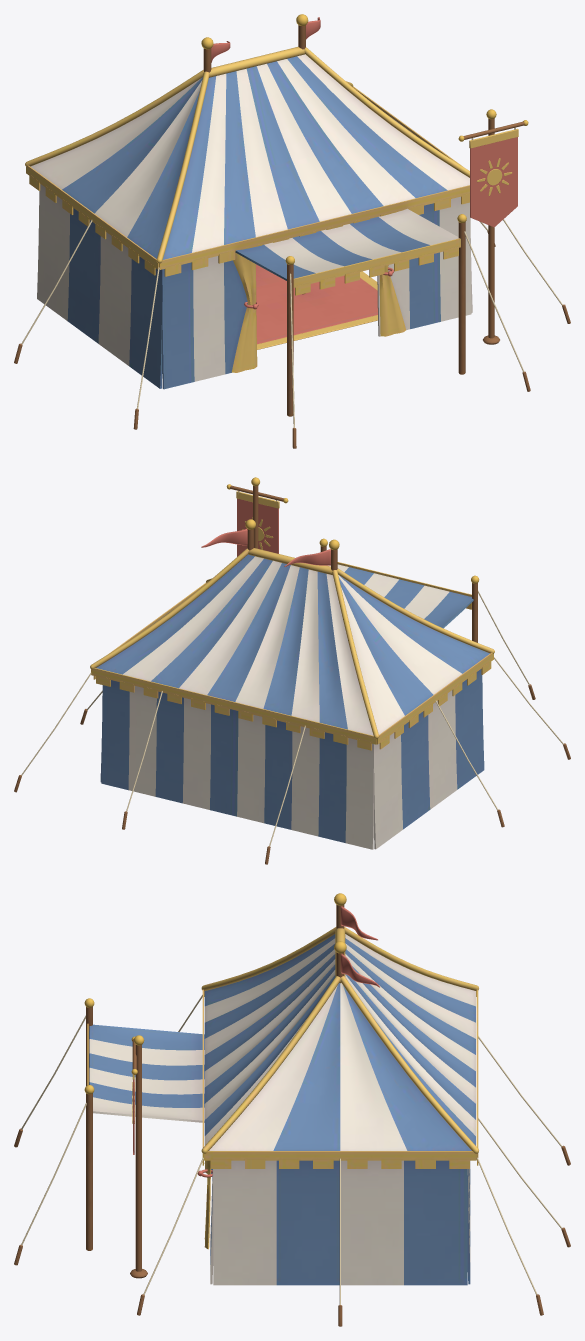
Rendered from royal-tent.glb.
3 views of the same model, one above another, from view 1: azimuth 30°, elevation 25°; view 2: azimuth 150°, elevation 25°; view 3: azimuth 270°, elevation 25° (orthographic). The views are drawn at different scales.
Visible parts, largest first — view 1: royal-tent_body, royal-tent_banner, royal-tent_details; view 2: royal-tent_body, royal-tent_details, royal-tent_banner, royal-tent; view 3: royal-tent_body, royal-tent_details, royal-tent.
Part boxes in pixels (<box>): royal-tent_body: <box>25,25,472,416</box>; royal-tent_banner: <box>469,128,518,227</box>; royal-tent_details: <box>14,14,570,448</box>; royal-tent_body: <box>90,529,494,849</box>; royal-tent_details: <box>14,477,570,864</box>; royal-tent_banner: <box>236,491,279,556</box>; royal-tent: <box>201,529,330,566</box>; royal-tent_body: <box>86,904,478,1285</box>; royal-tent_details: <box>14,893,570,1326</box>; royal-tent: <box>340,906,379,987</box>.
Size of the model in its own units: 8.13 by 4.51 by 7.88.
Materials: 9 (1 with a texture image).
